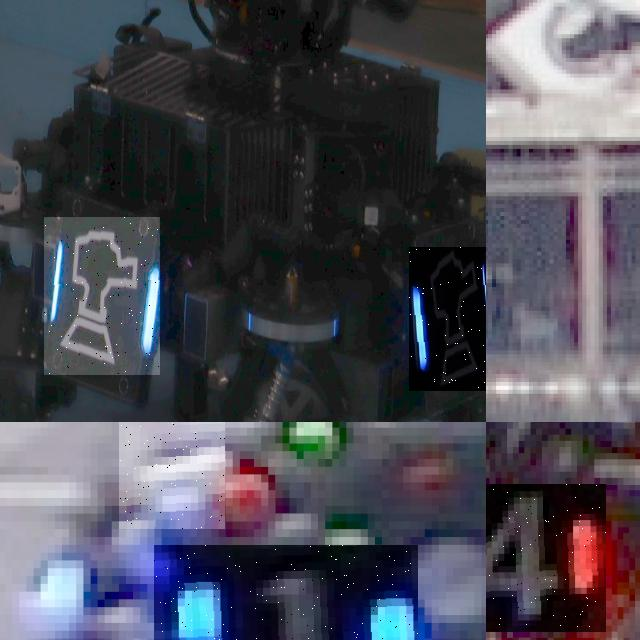B1: (154, 544, 417, 640), (118, 422, 225, 529)
Bs: (44, 217, 160, 375), (409, 246, 486, 391)
R4: (486, 484, 606, 631)
